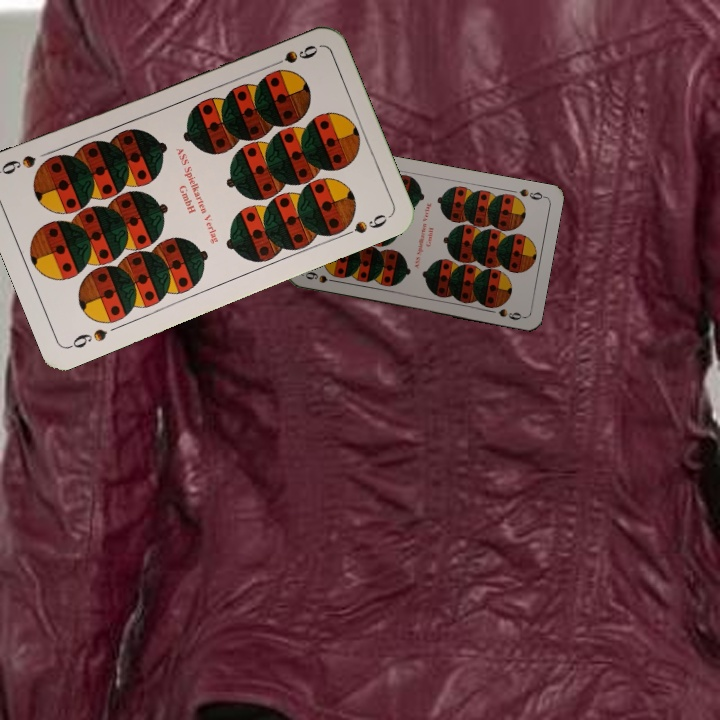S9: (264, 40, 321, 71), (65, 324, 110, 351), (301, 268, 341, 286), (515, 185, 548, 203)
